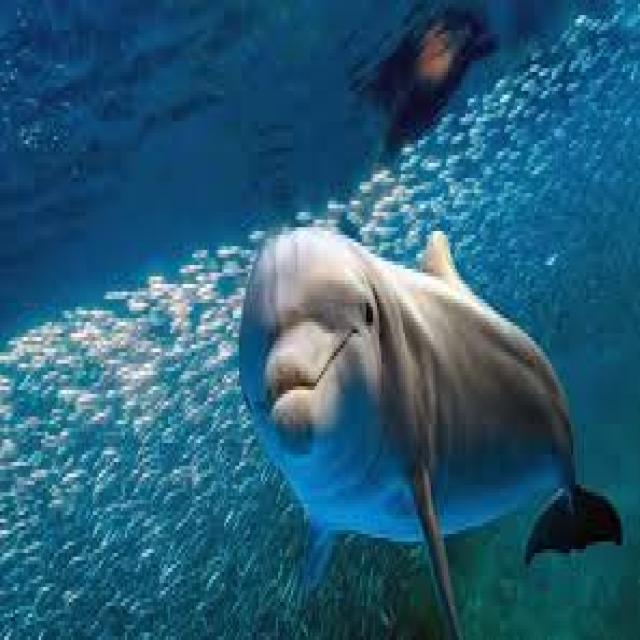dolphin: (209, 193, 623, 591)
